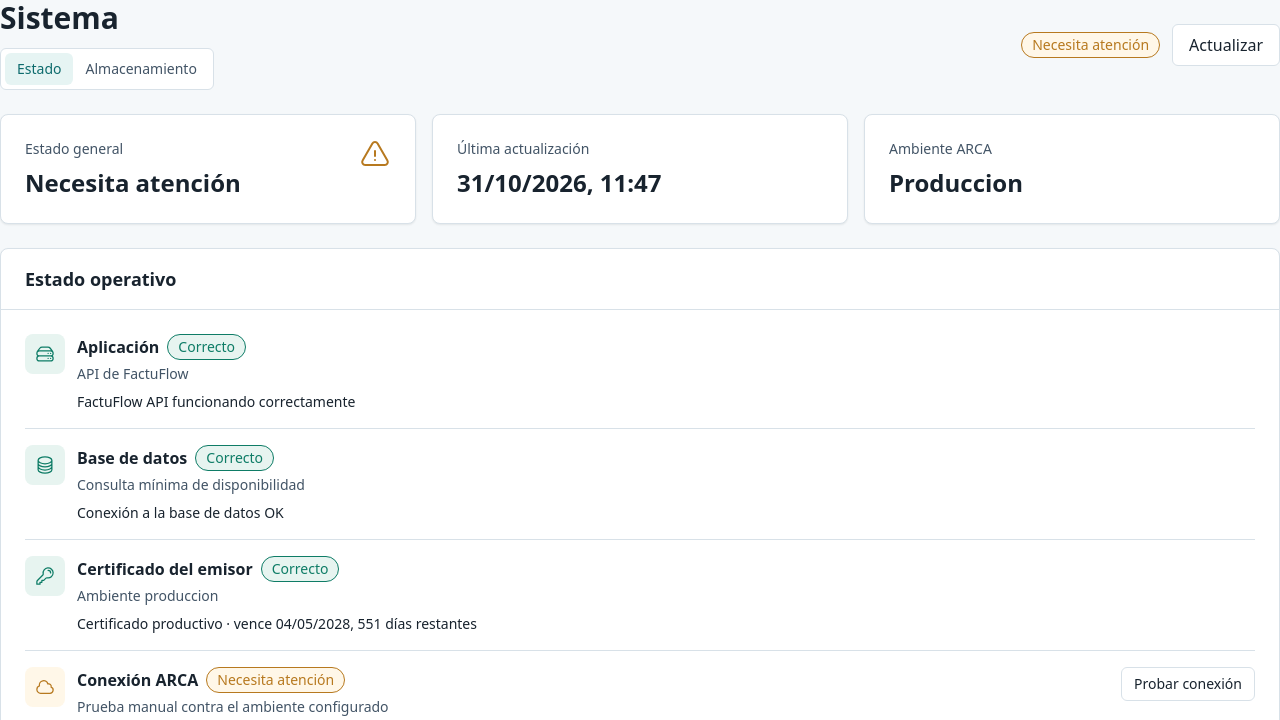
Scenario: SistemaView › muestra horas de lotes compactables en Argentina
The width and height of the screenshot is (1280, 720).
What coordinates should you click on to do the following:
click the button "Almacenamiento"
I would click on:
 (141, 69)
Its box is [74,53,209,85].
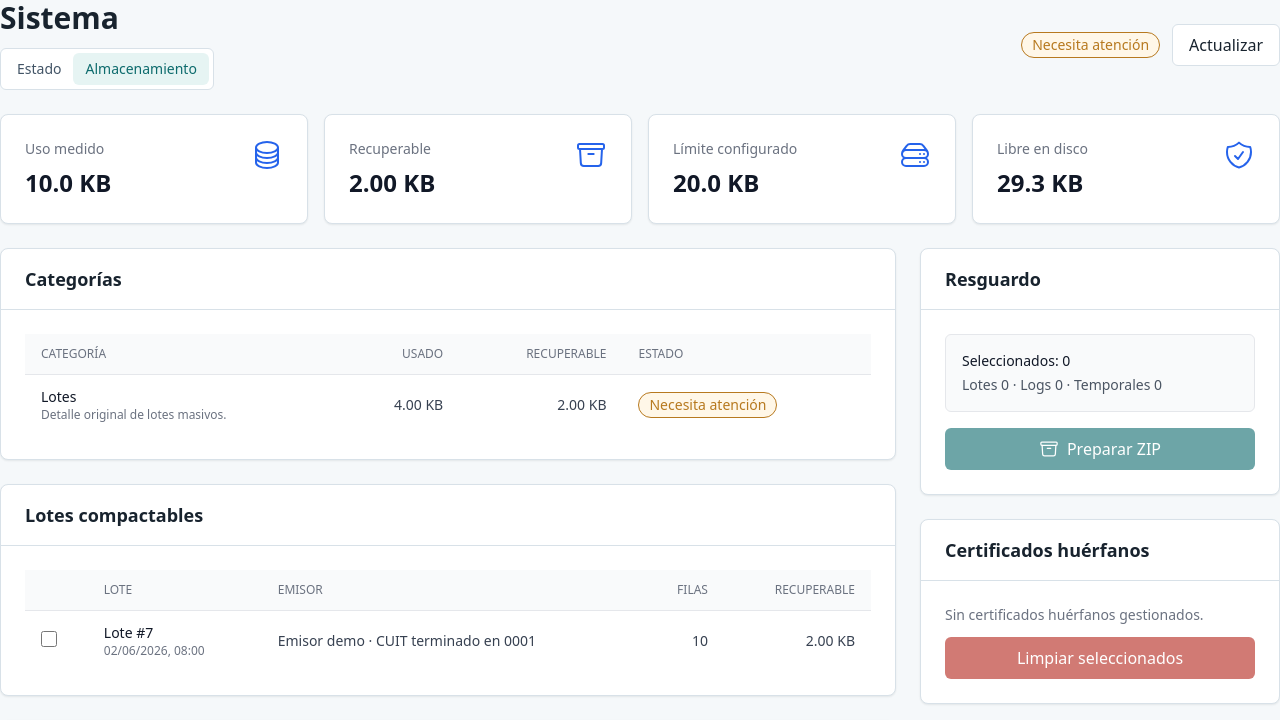
Check: the text "02/06/2026, 08:00" is shown, box [104,642,205,659]
